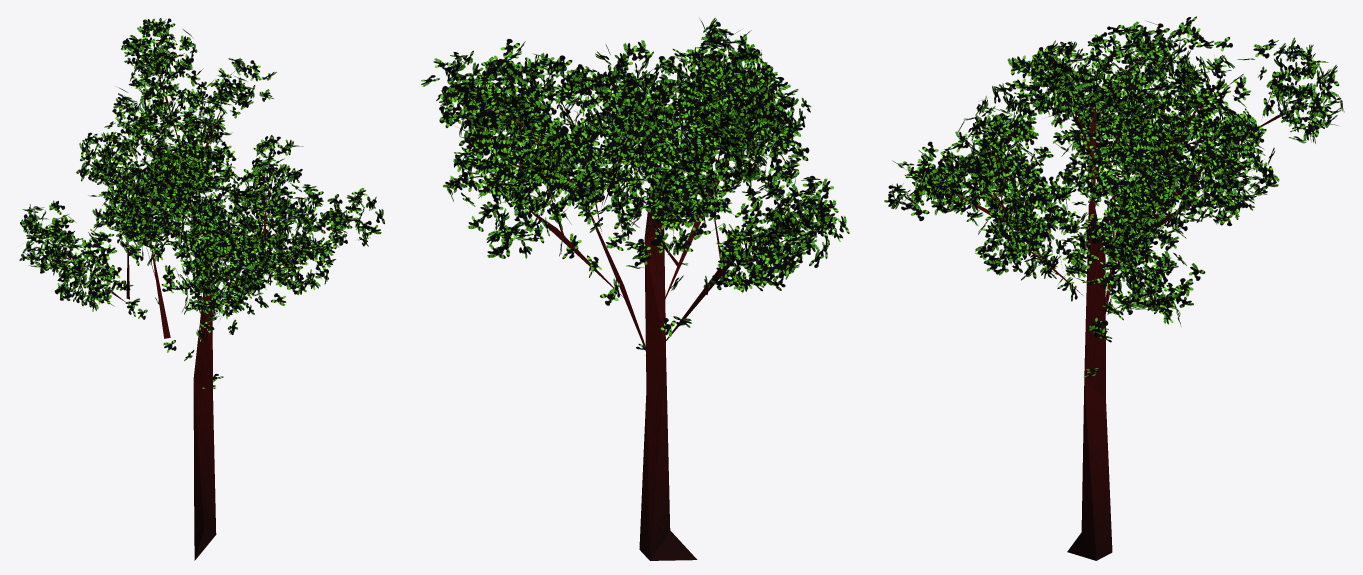
File: emergent_fig_v01_LOD2.glb
The picture shows the model from 3 angles, left to right: view 1: azimuth 30°, elevation 25°; view 2: azimuth 150°, elevation 25°; view 3: azimuth 270°, elevation 25°; orthographic projection. The views are drawn at different scales.
Parts seen in each view (by area): view 1: emergent_fig_v01_LOD2; view 2: emergent_fig_v01_LOD2; view 3: emergent_fig_v01_LOD2.
Part boxes in pixels (box(x1,y1,x2,y2)): emergent_fig_v01_LOD2: box(19, 18, 384, 560); emergent_fig_v01_LOD2: box(421, 17, 849, 560); emergent_fig_v01_LOD2: box(884, 16, 1344, 560).
Size of the model in its own units: 28.74 by 42.22 by 32.4.
Materials: 2 (2 with a texture image).
